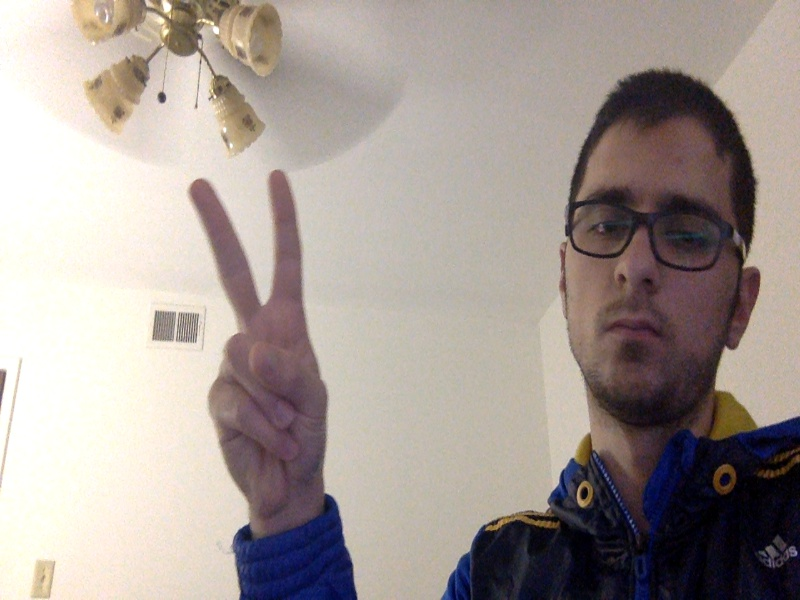2-hand: (188, 171, 329, 509)
